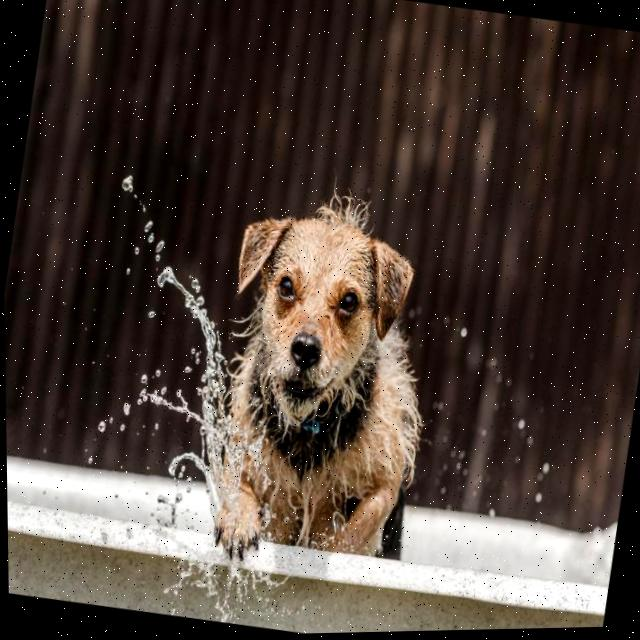dog: (153, 163, 482, 583)
